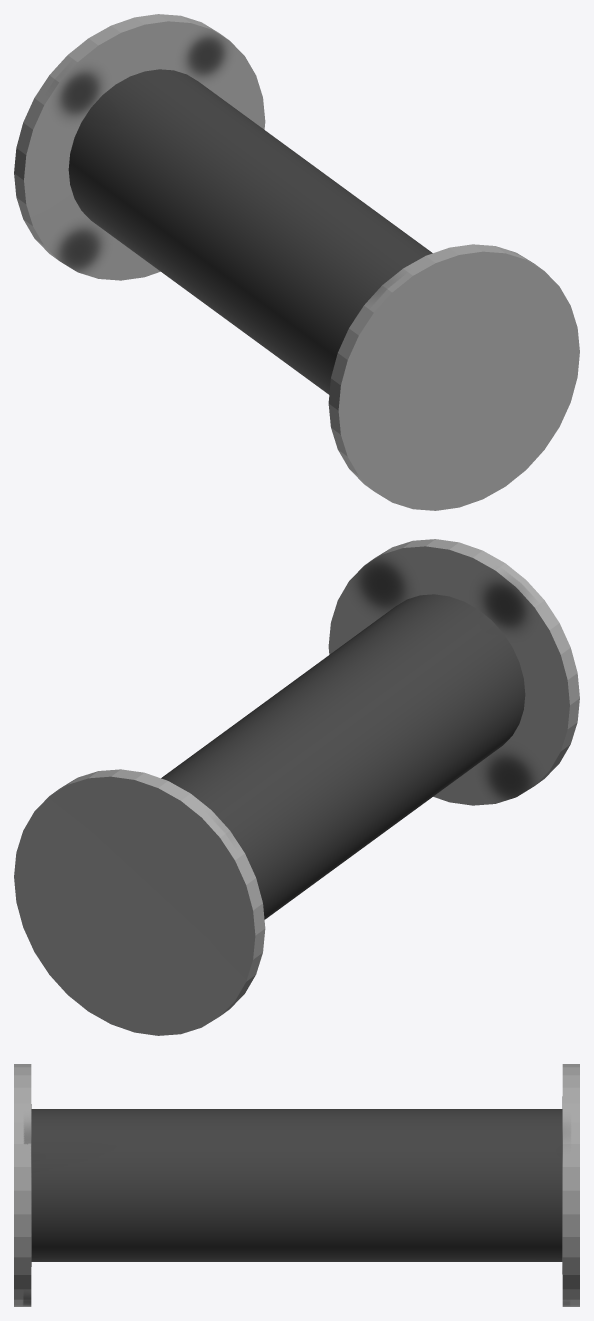
File: PipeOne.fbx
The picture shows the model from 3 angles, top to bottom: view 1: azimuth 30°, elevation 25°; view 2: azimuth 150°, elevation 25°; view 3: azimuth 270°, elevation 25°; orthographic projection. The views are drawn at different scales.
Visible parts, largest first — view 1: Cylinder; view 2: Cylinder; view 3: Cylinder.
Boxes of the visible parts, left/top/right/bottom form: Cylinder: left=14, top=14, right=579, bottom=510; Cylinder: left=14, top=539, right=579, bottom=1035; Cylinder: left=14, top=1064, right=579, bottom=1306.
Size of the model in its own units: 91.55 by 91.55 by 213.
Materials: 1 (1 with a texture image).
